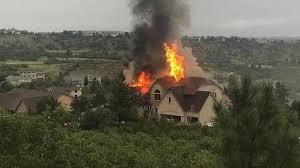fire: (162, 39, 187, 81), (127, 69, 156, 93)
